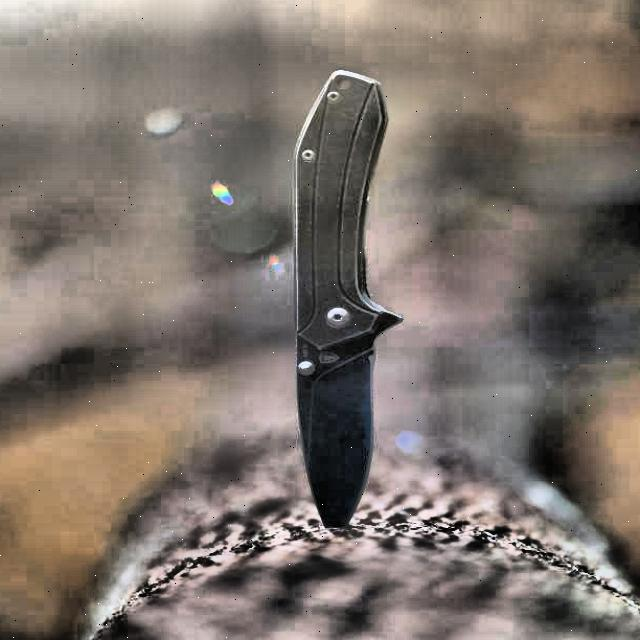knife: (284, 65, 405, 534)
